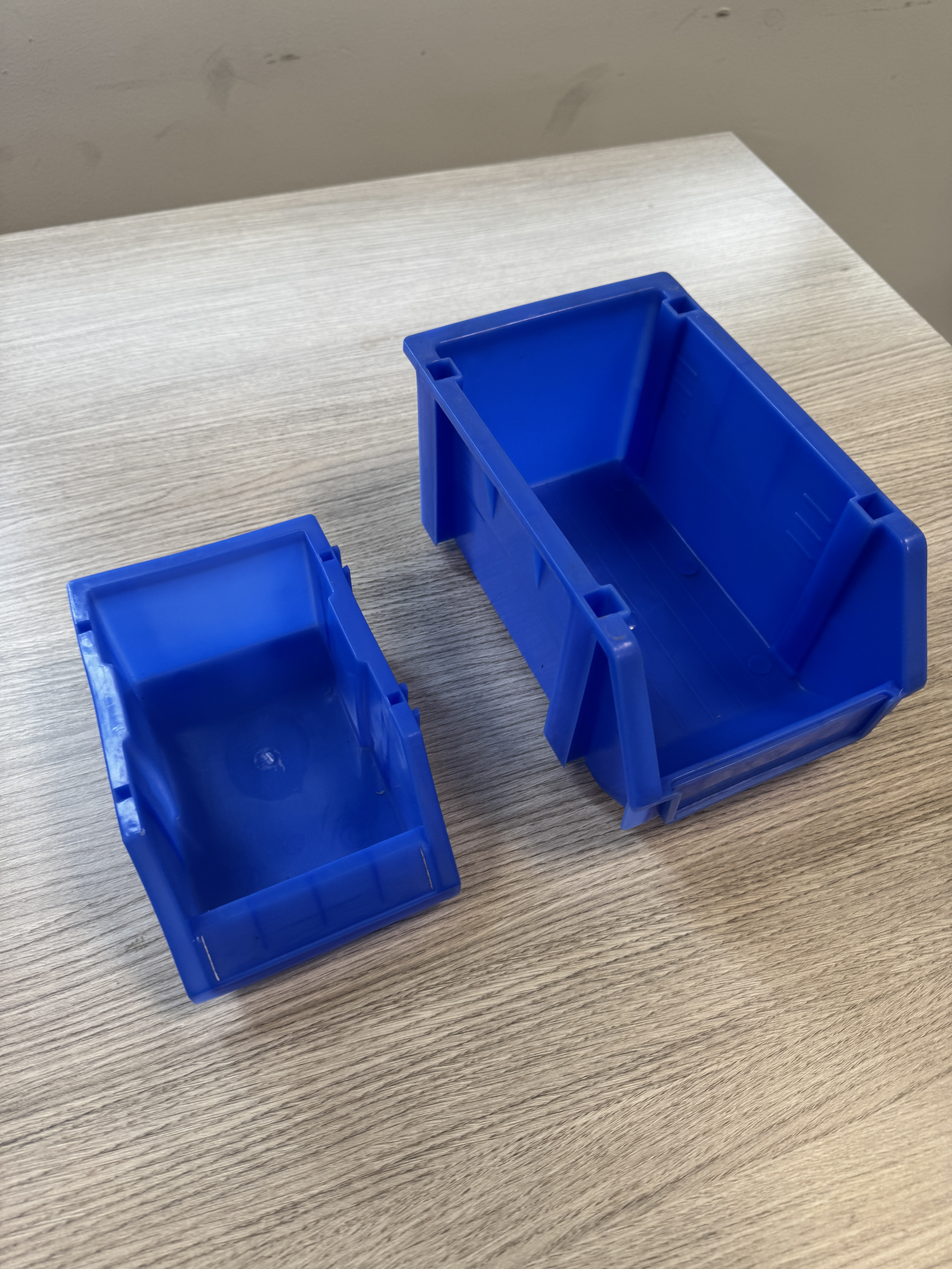Bin Boundary: (431, 196, 952, 803), (80, 524, 428, 919)
